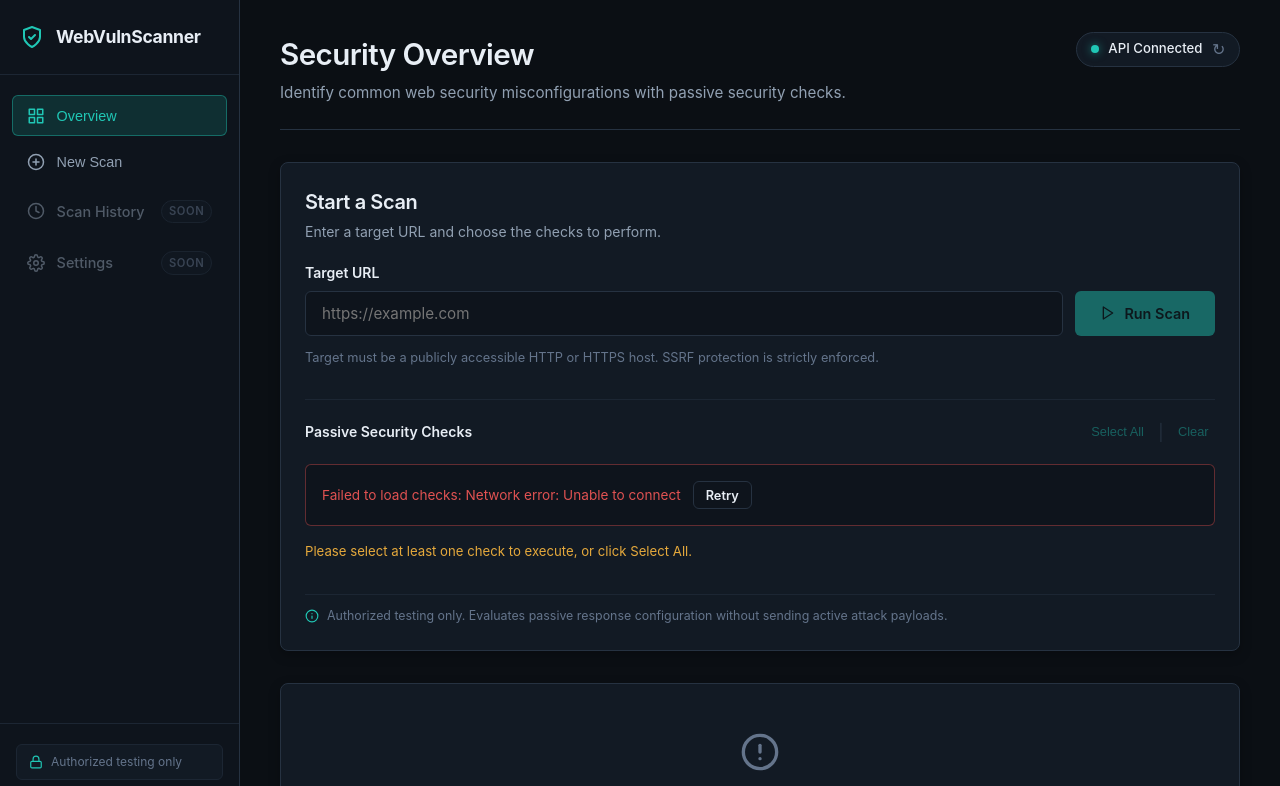
WebVulnScanner UI Integration › 3. handles failure to load check metadata with retry capability
Check: the element with test id "checks-error" is shown, box [305,464,1215,526]
Check: the text "Failed to load checks: Network error: Unable to connect" is shown, box [322,485,681,505]
Click the button with test id "retry-checks-button": [722, 495] box [693,481,752,509]
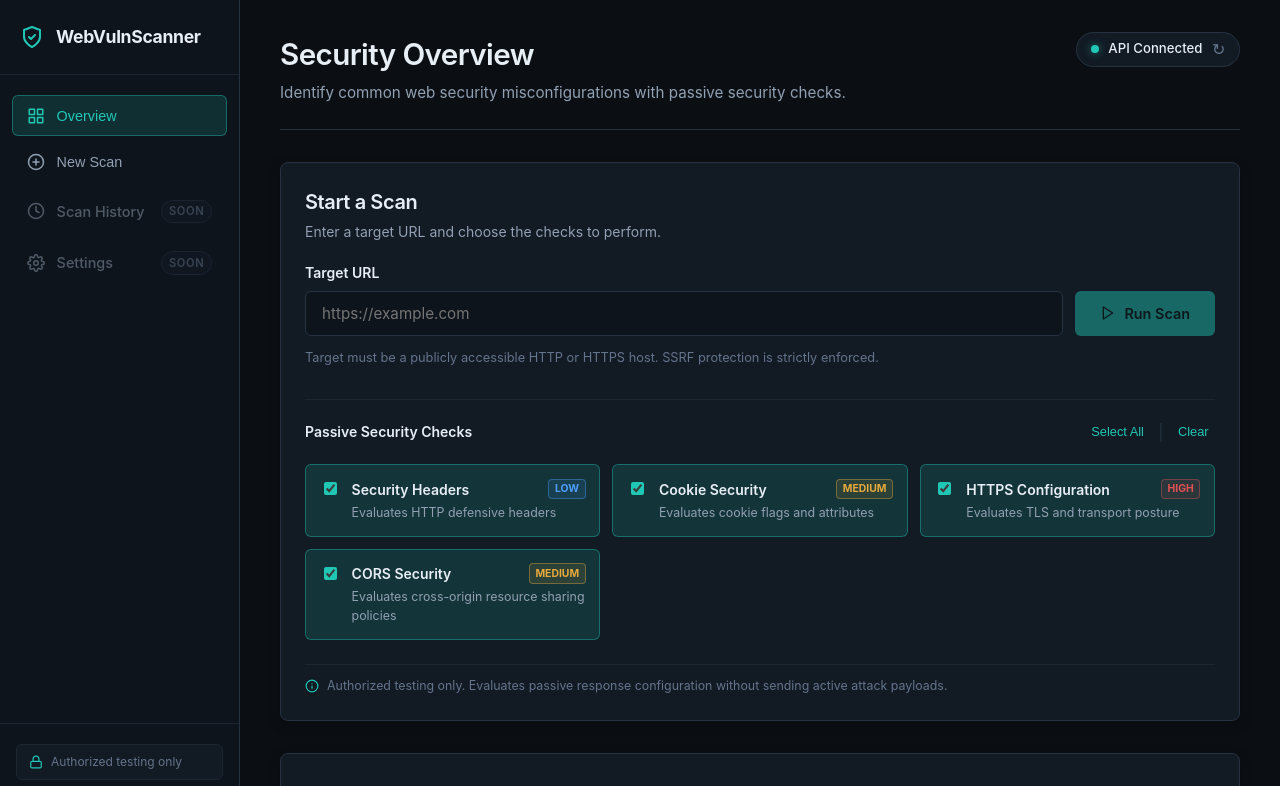
Check: the text "Security Headers" is shown, box [352,479,469,500]
